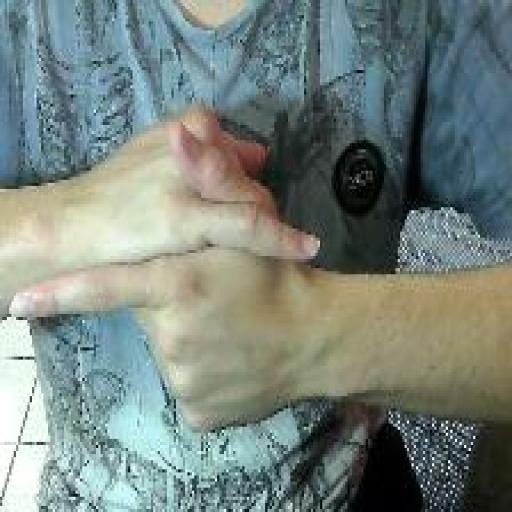U -hare-: (8, 99, 321, 440)
